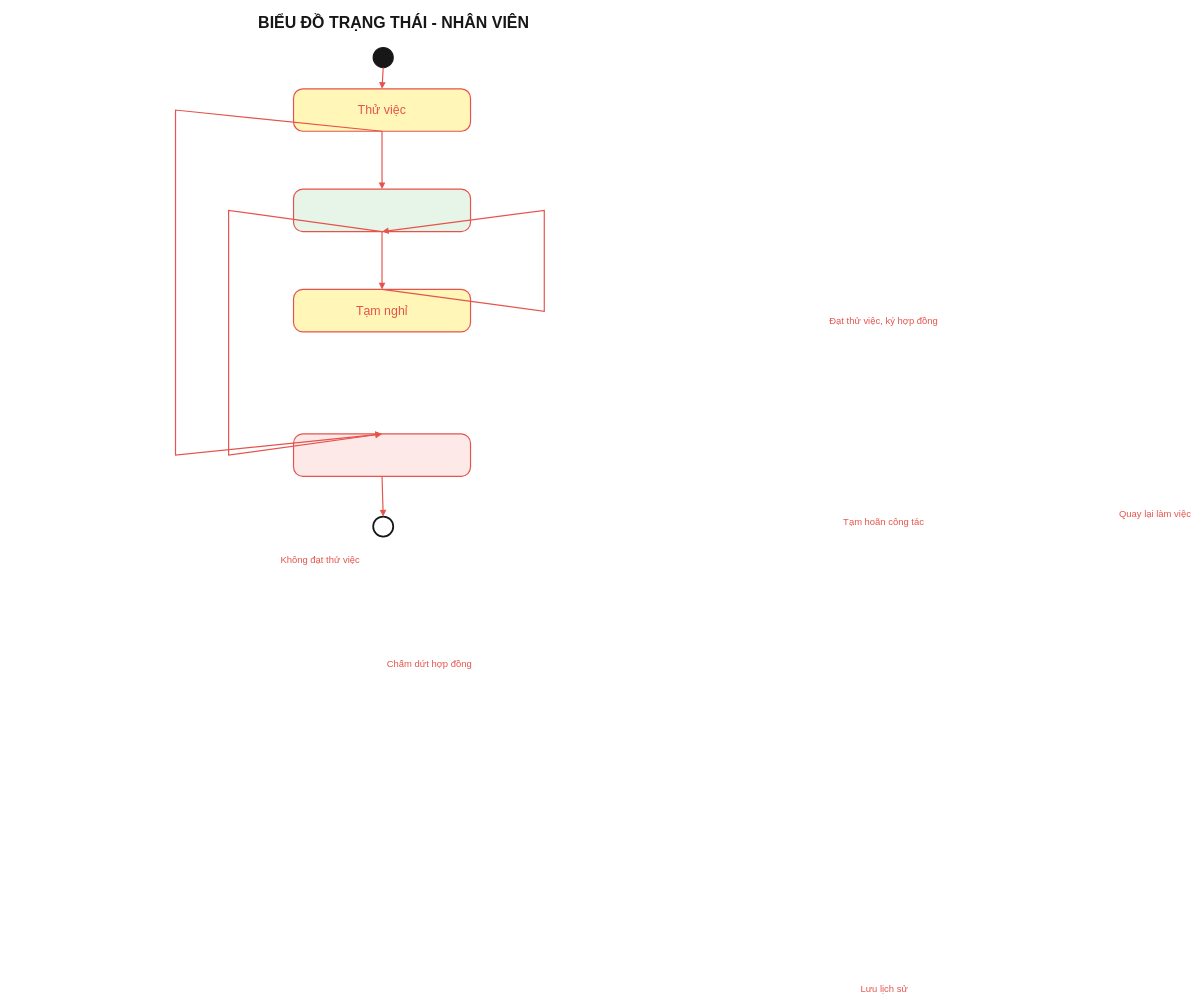
The diagram is 1201 pixels wide and 1005 high, and some of its shapes have lost their labels. The centre of each missing label's shape, as x and y in pixels:
"Nghỉ việc" belongs at [382,455].
"Đang làm việc" belongs at [382,210].
